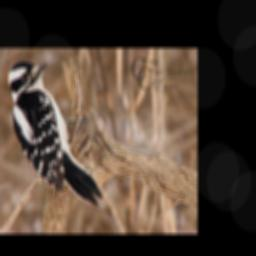Woodpecker: (7, 60, 104, 210)
